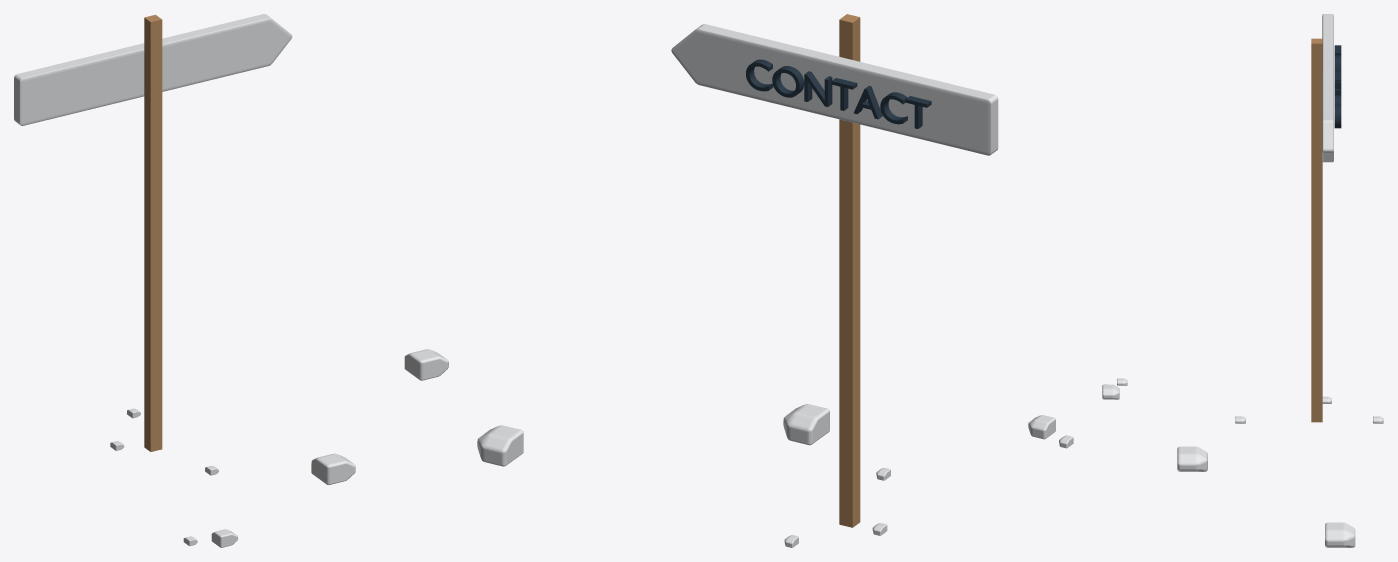
The model's file is signContact.glb.
The picture shows the model from 3 angles, left to right: view 1: azimuth 30°, elevation 25°; view 2: azimuth 150°, elevation 25°; view 3: azimuth 270°, elevation 25°; orthographic projection. The views are drawn at different scales.
Visible parts, largest first — view 1: Cube.001, Cube, Cube.002, Cube.008; view 2: Cube.001, Cube, Text.001, Cube.008, Cube.002; view 3: Cube, Cube.001, Cube.008, Cube.002, Text.001.
Part boxes in pixels (box(x1,y1,x2,y2)): Cube.001: box(14, 14, 292, 125); Cube: box(144, 14, 162, 451); Cube.002: box(404, 349, 448, 380); Cube.008: box(311, 453, 355, 485); Cube.001: box(671, 24, 998, 155); Cube: box(839, 14, 860, 527); Text.001: box(746, 59, 931, 128); Cube.008: box(783, 404, 829, 445); Cube.002: box(477, 425, 523, 466); Cube: box(1311, 38, 1322, 422); Cube.001: box(1322, 14, 1333, 162); Cube.008: box(1177, 446, 1207, 471); Cube.002: box(1325, 522, 1355, 547); Text.001: box(1334, 45, 1341, 128).
Size of the model in its own units: 18.9 by 18.14 by 12.12.
